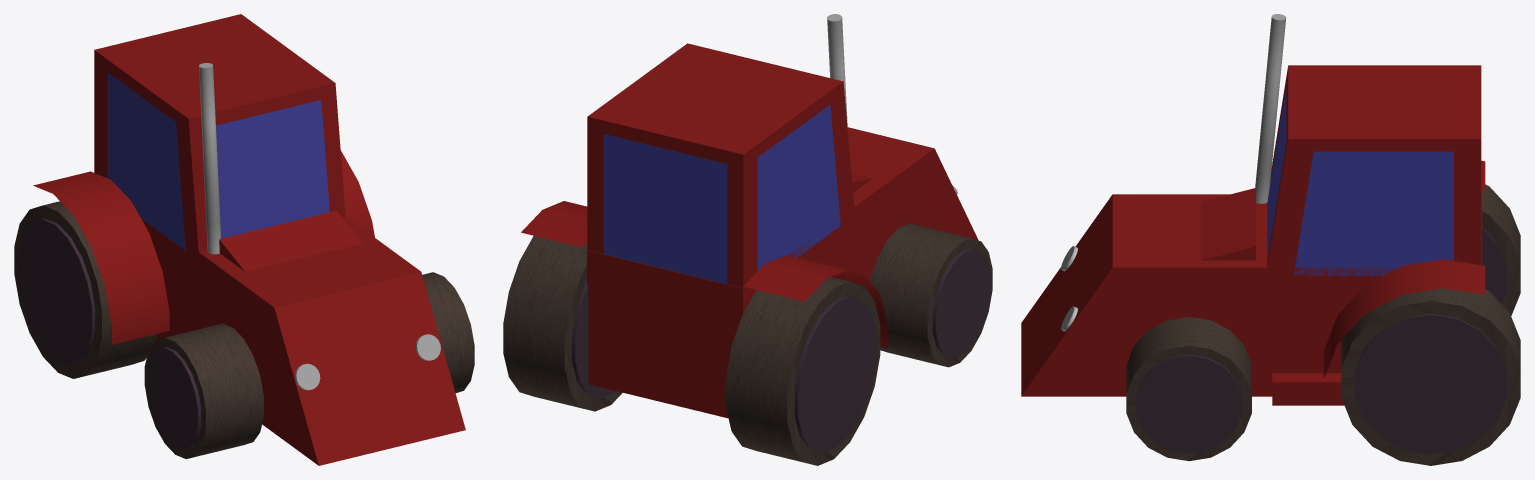
The model's file is Tractor.FBX.
3 views of the same model, side by side, from view 1: azimuth 30°, elevation 25°; view 2: azimuth 150°, elevation 25°; view 3: azimuth 270°, elevation 25° (orthographic). The views are drawn at different scales.
Visible parts, largest first — view 1: Box003, Box005, Object002, Cylinder014, Cylinder007, Object001, Box001, Cylinder001, Cylinder002, Box004, Cylinder008, Cylinder005 (+4 smaller); view 2: Box005, Box001, Cylinder002, Cylinder003, Object001, Cylinder001, Cylinder007, Box003, Cylinder008, Cylinder014, Cylinder013, Cylinder004 (+1 smaller); view 3: Box005, Box003, Box001, Object003, Cylinder004, Cylinder003, Cylinder006, Cylinder005, Cylinder013, Box004, Cylinder009, Cylinder002 (+3 smaller).
Part boxes in pixels (<box>): Box003: <box>234,242,465,465</box>; Box005: <box>94,14,345,273</box>; Object002: <box>216,100,329,238</box>; Cylinder014: <box>33,171,169,344</box>; Cylinder007: <box>144,323,263,458</box>; Object001: <box>107,72,185,250</box>; Box001: <box>151,216,380,340</box>; Cylinder001: <box>17,218,95,366</box>; Cylinder002: <box>14,201,157,378</box>; Box004: <box>219,210,362,271</box>; Cylinder008: <box>146,347,201,450</box>; Cylinder005: <box>422,272,474,392</box>; Box005: <box>587,43,854,309</box>; Box001: <box>587,143,918,418</box>; Cylinder002: <box>726,277,880,465</box>; Cylinder003: <box>503,236,622,411</box>; Object001: <box>757,104,840,270</box>; Cylinder001: <box>794,295,876,452</box>; Cylinder007: <box>870,223,992,367</box>; Box003: <box>847,127,978,240</box>; Cylinder008: <box>932,248,991,358</box>; Cylinder014: <box>743,255,888,347</box>; Cylinder013: <box>521,201,587,247</box>; Cylinder004: <box>571,280,615,398</box>; Box005: <box>1264,65,1481,288</box>; Box003: <box>1021,194,1194,396</box>; Box001: <box>1144,194,1481,396</box>; Object003: <box>1293,151,1453,276</box>; Cylinder004: <box>1355,313,1506,454</box>; Cylinder003: <box>1341,288,1520,465</box>; Cylinder006: <box>1136,354,1242,453</box>; Cylinder005: <box>1126,317,1251,461</box>; Cylinder013: <box>1323,259,1485,378</box>; Box004: <box>1201,188,1255,260</box>; Cylinder009: <box>1255,14,1286,203</box>; Cylinder002: <box>1481,184,1520,315</box>.
Size of the model in its own units: 245 by 294 by 378.
Materials: 5 (2 with a texture image).
